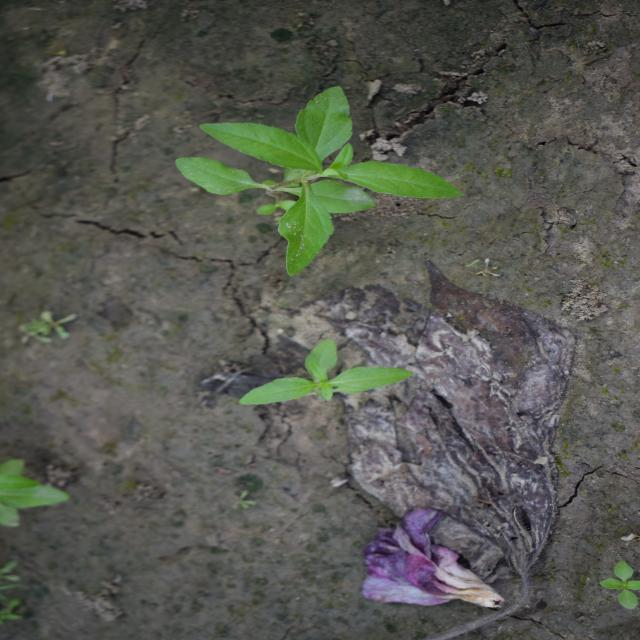Eclipta: (174, 83, 466, 278), (235, 336, 417, 408)
